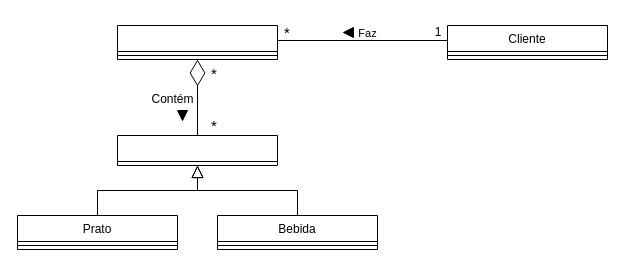
Some shapes in this 625 by 267 pixel diagram are drawn without their labels. Here are the shapes that lost their labels. From the top down, the centre of each, then its label:
(197,42): Pedido
(197,150): Produto
